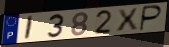2: (94, 8, 114, 36)
3: (46, 13, 65, 39)
8: (71, 11, 90, 37)
I: (23, 15, 35, 41)
P: (138, 4, 164, 32)
X: (115, 7, 139, 33)
